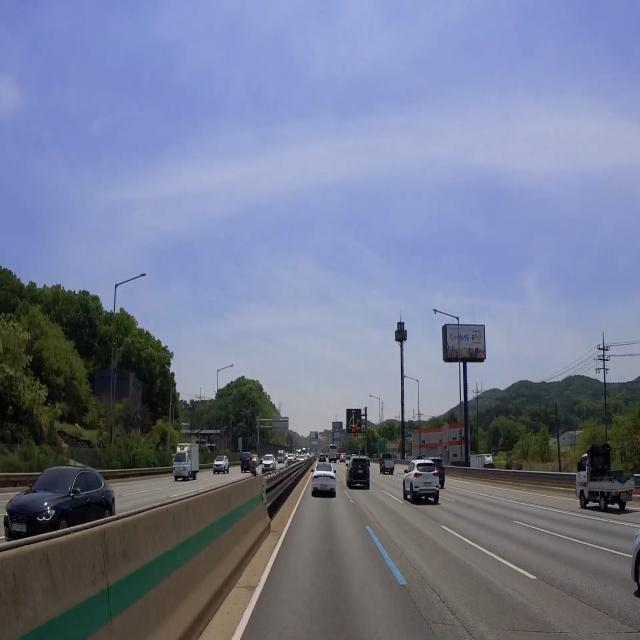car: (8, 520, 28, 538), (421, 477, 433, 495), (318, 481, 330, 495), (355, 465, 365, 480), (619, 491, 630, 501), (175, 469, 184, 479), (436, 468, 441, 474)
